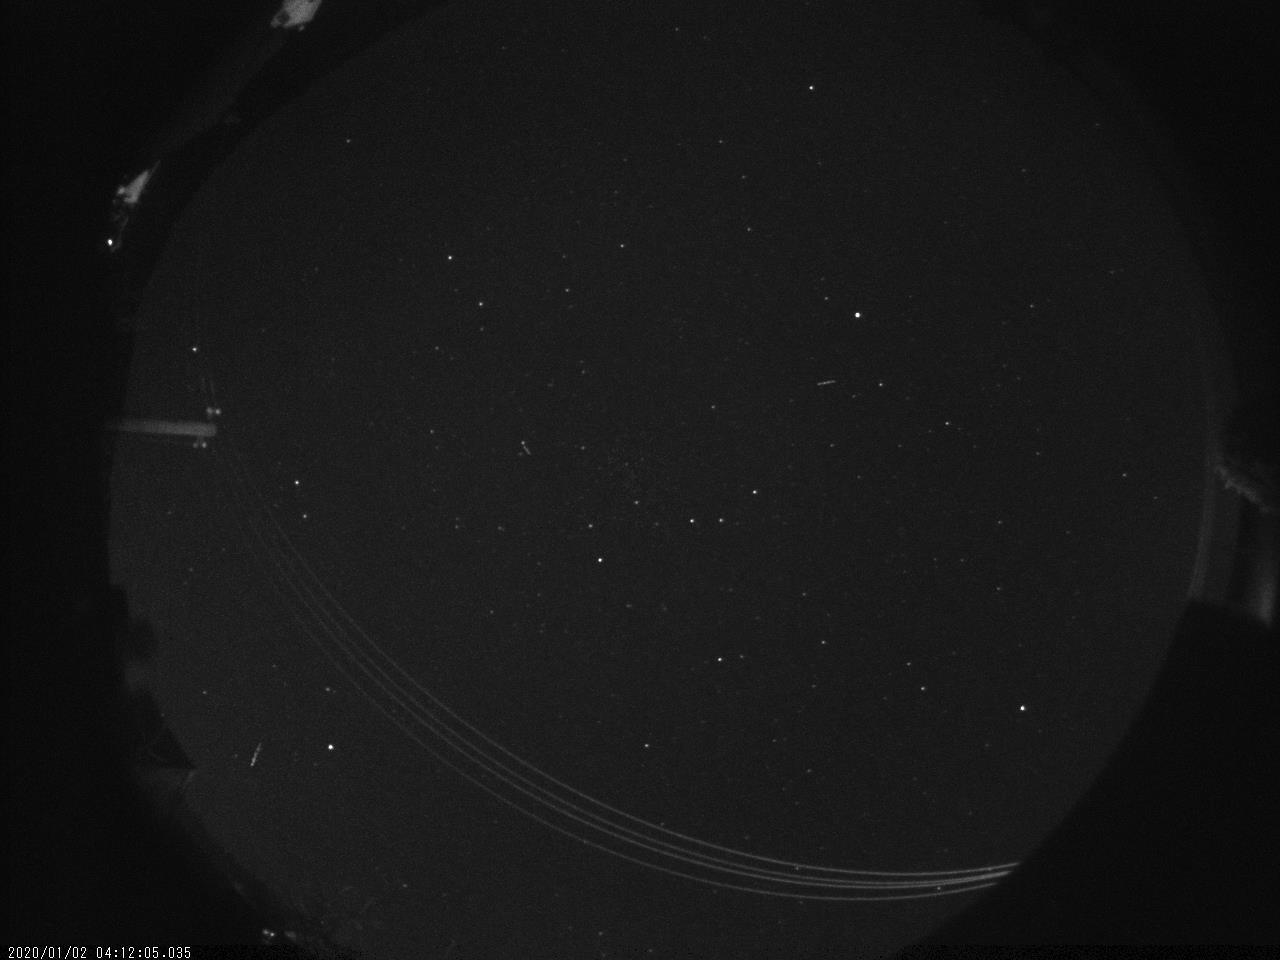Meteor: (245, 735, 267, 772)
